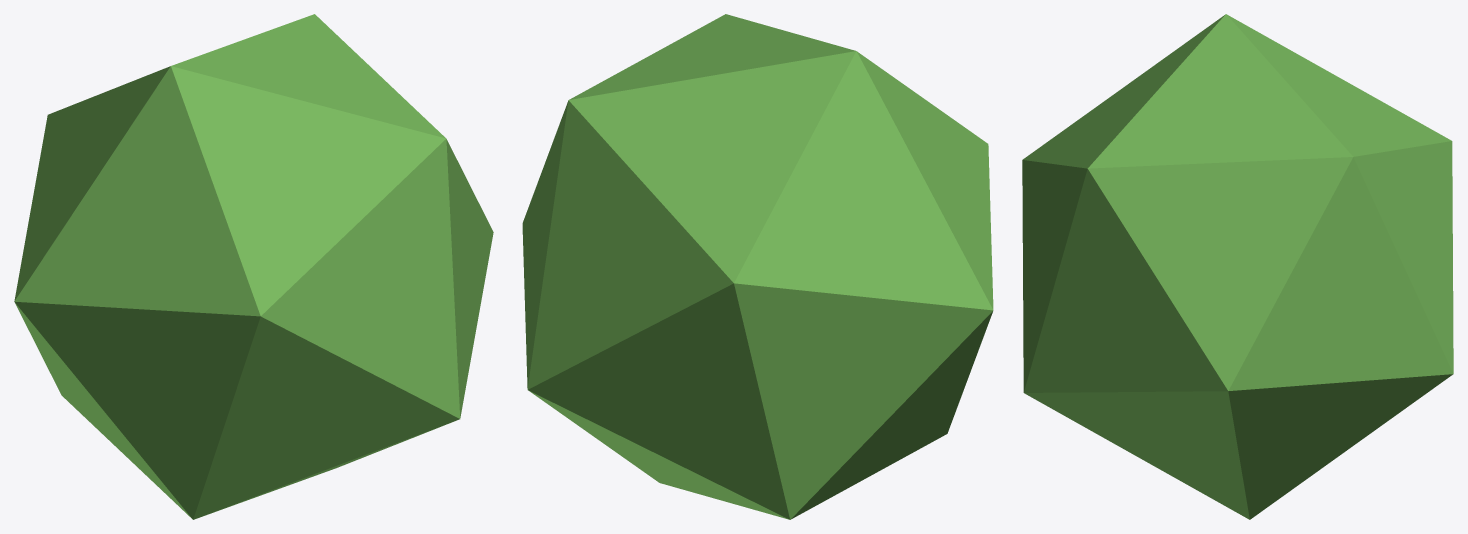
File: dark bush.glb
3 views of the same model, side by side, from view 1: azimuth 30°, elevation 25°; view 2: azimuth 150°, elevation 25°; view 3: azimuth 270°, elevation 25° (orthographic). The views are drawn at different scales.
Parts seen in each view (by area): view 1: Icosphere; view 2: Icosphere; view 3: Icosphere.
Boxes of the visible parts, x1=… form: Icosphere: x1=14, y1=14, x2=493, y2=519; Icosphere: x1=522, y1=14, x2=993, y2=519; Icosphere: x1=1022, y1=14, x2=1453, y2=519.
Size of the model in its own units: 0.3037 by 0.2815 by 0.2593.
